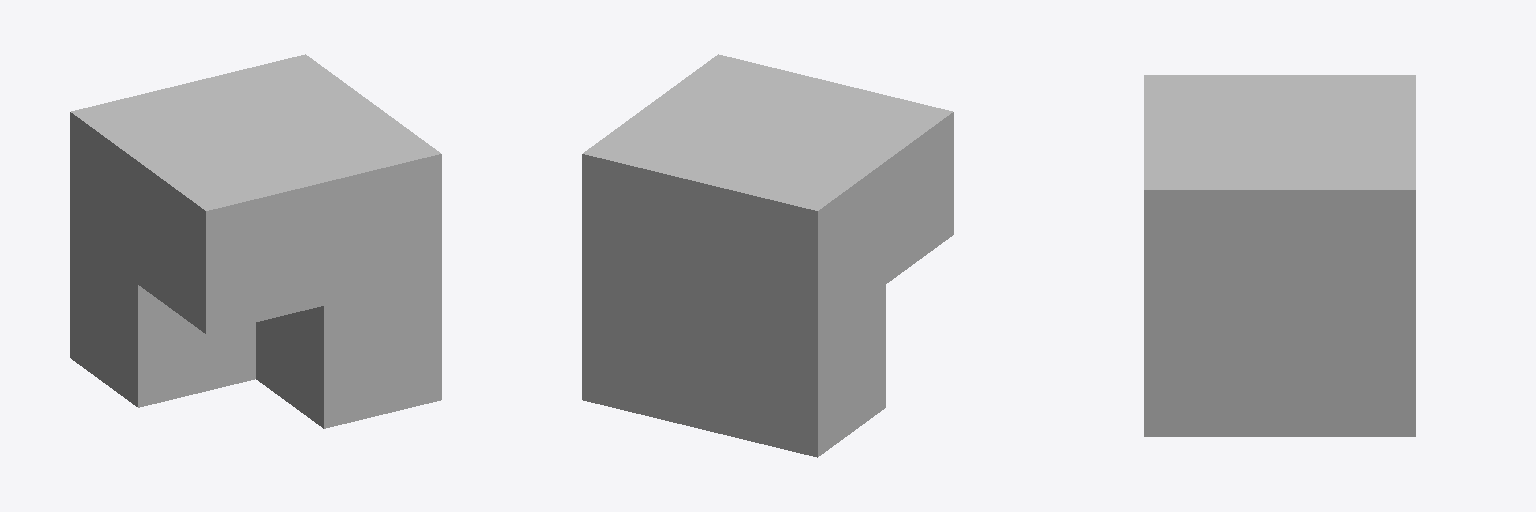
File: E3-Rep02-p03.obj
3 views of the same model, side by side, from view 1: azimuth 30°, elevation 25°; view 2: azimuth 150°, elevation 25°; view 3: azimuth 270°, elevation 25° (orthographic).
Visible parts, largest first — view 1: mesh4, mesh8, mesh3, mesh1, mesh2; view 2: mesh6, mesh8, mesh3; view 3: mesh7, mesh8.
Boxes of the visible parts, box(x1,y1,x2,y2) form: mesh4: box(206, 154, 441, 428); mesh8: box(71, 54, 440, 210); mesh3: box(70, 112, 205, 406); mesh1: box(138, 285, 255, 407); mesh2: box(256, 306, 323, 428); mesh6: box(582, 154, 817, 457); mesh8: box(583, 54, 952, 210); mesh3: box(818, 112, 953, 456); mesh7: box(1144, 190, 1415, 436); mesh8: box(1144, 75, 1415, 189).
Bounding box in the file's own units: 0.02 × 0.02 × 0.02.